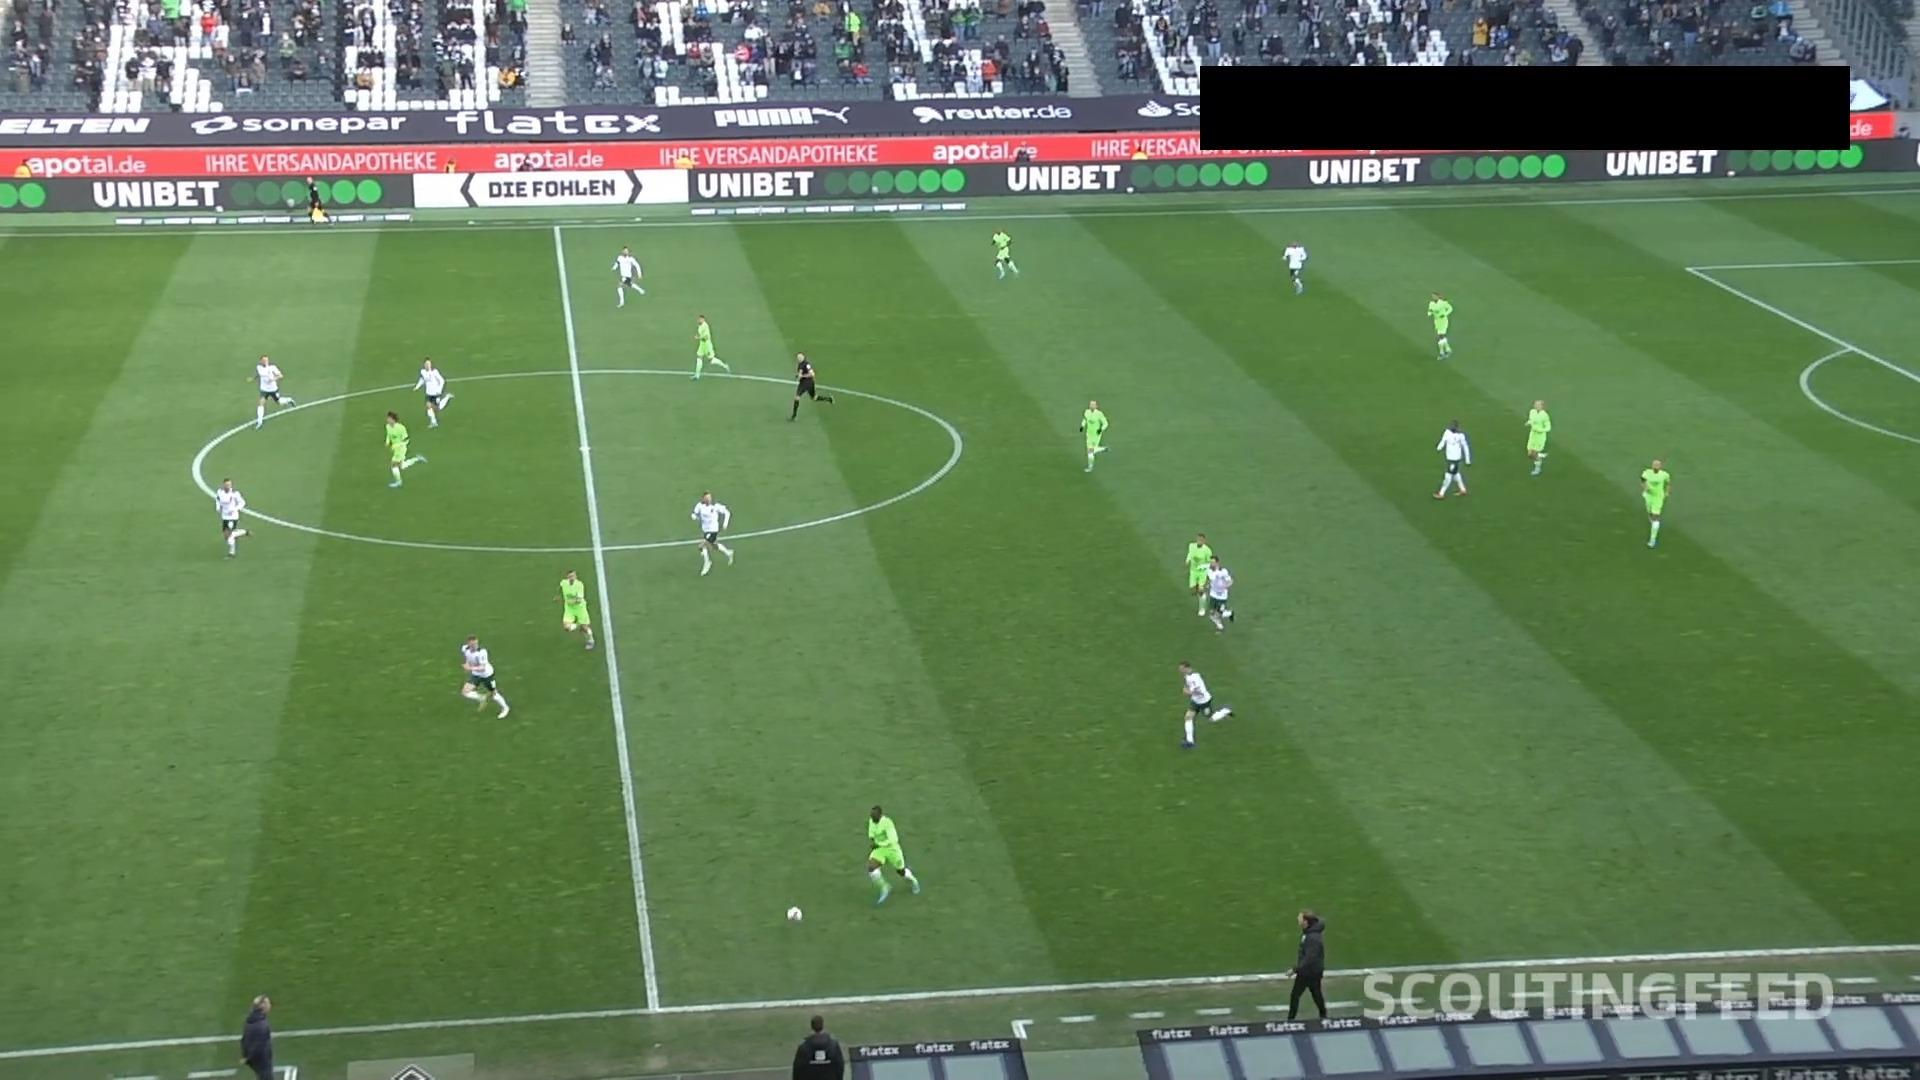ball: (786, 906, 802, 922)
coach: (1285, 908, 1328, 1021), (239, 993, 274, 1078)
player: (865, 803, 920, 905), (1176, 660, 1234, 748), (459, 635, 510, 719), (689, 490, 733, 576), (383, 410, 426, 487), (1432, 418, 1471, 498), (557, 568, 595, 650), (1638, 457, 1671, 548), (213, 477, 249, 558), (413, 357, 453, 428), (248, 354, 285, 429), (689, 313, 730, 380), (1198, 555, 1234, 631), (1184, 531, 1214, 617), (1077, 399, 1109, 472), (610, 245, 644, 308), (1523, 399, 1550, 475), (1425, 290, 1453, 360), (1281, 239, 1308, 294), (990, 227, 1018, 279)
referee: (791, 1014, 845, 1079), (787, 351, 833, 421), (304, 176, 333, 223)
